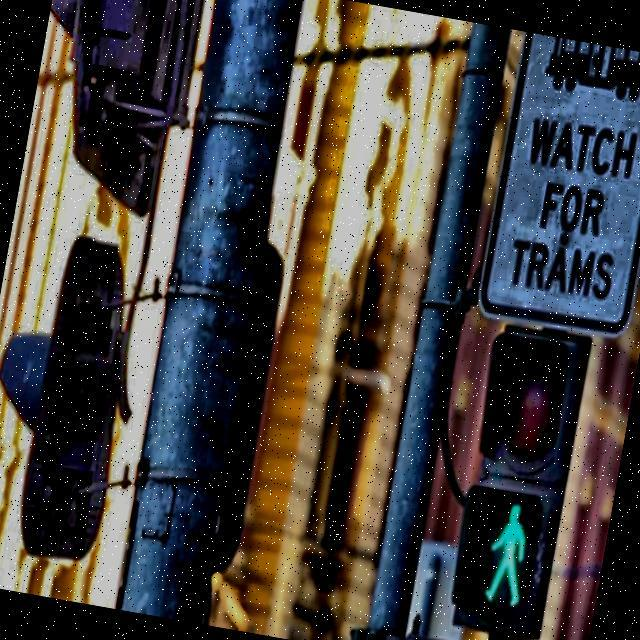green_light: (480, 498, 538, 612)
